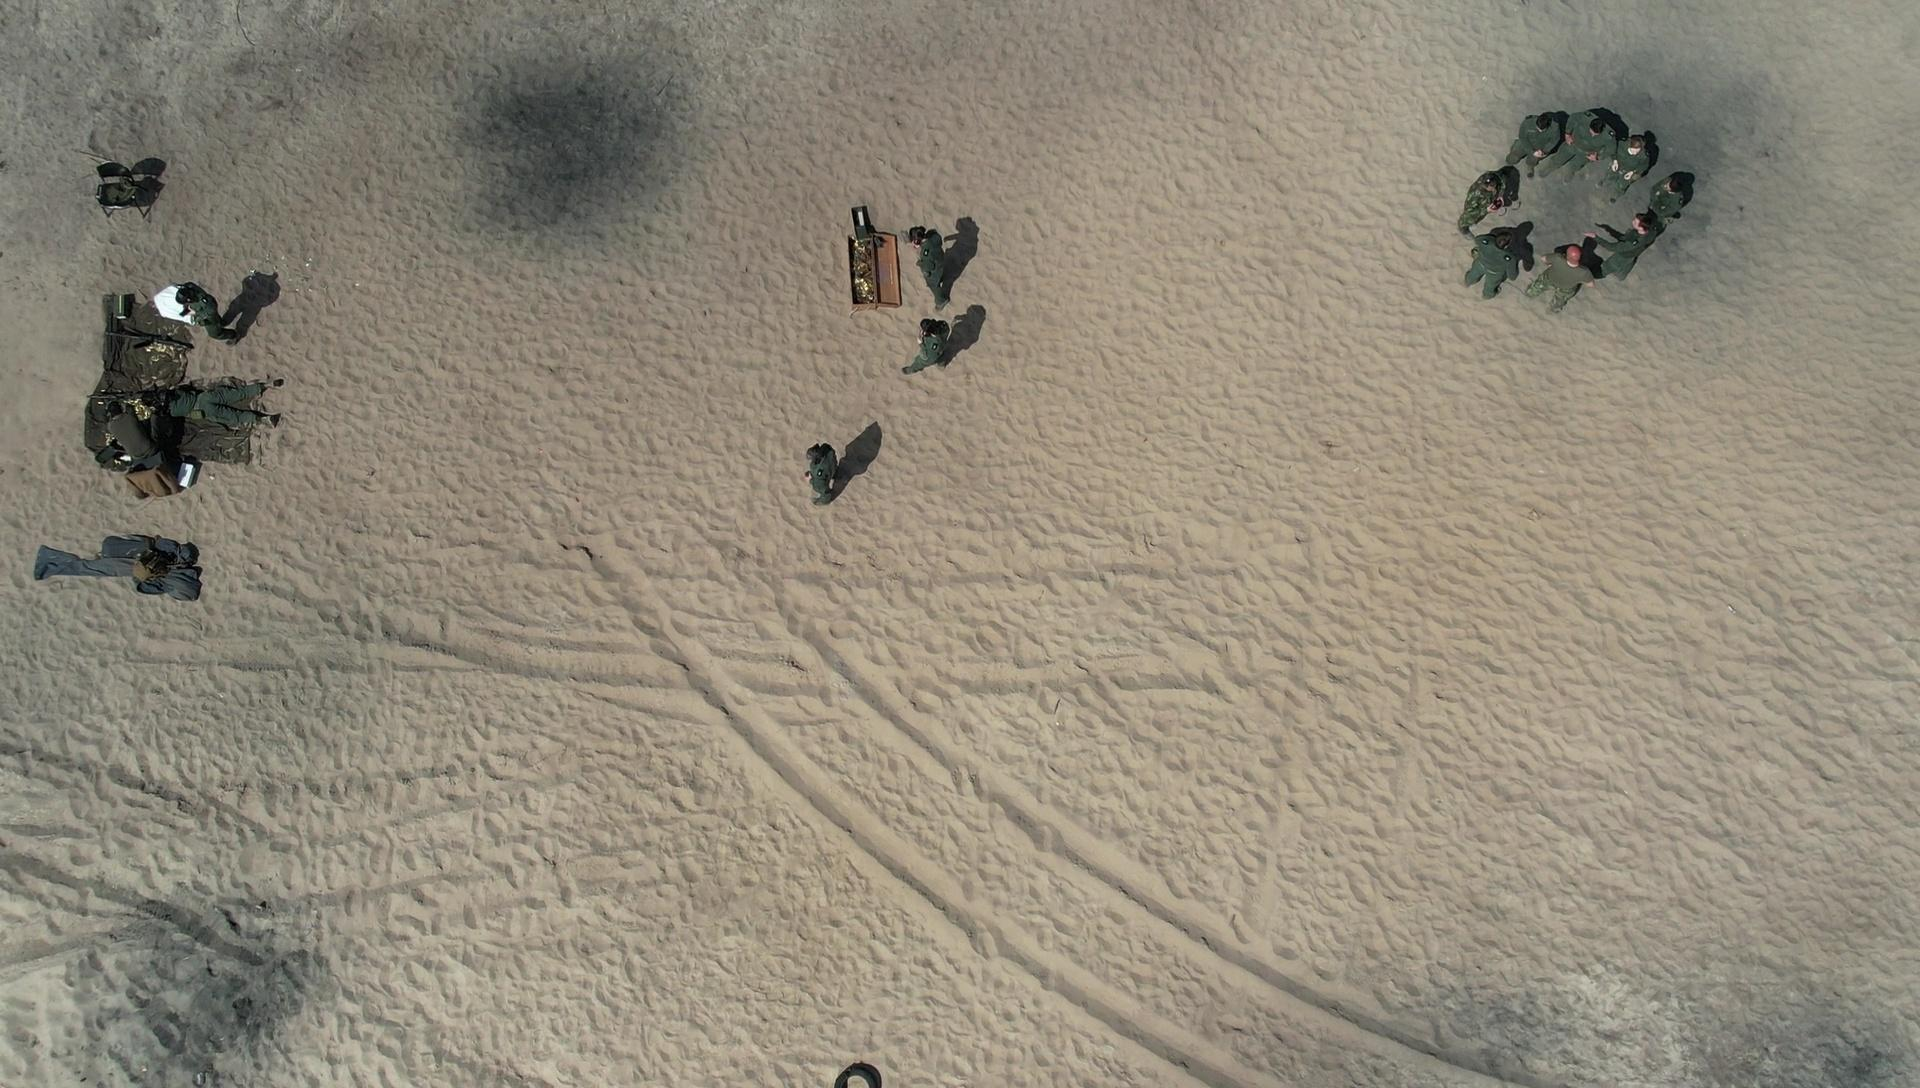Soldier: (149, 375, 306, 446), (899, 208, 973, 313), (1596, 195, 1665, 301), (94, 397, 179, 476), (164, 280, 260, 349), (1464, 211, 1534, 307), (891, 306, 973, 388), (783, 422, 853, 512), (1557, 106, 1634, 179), (1534, 231, 1598, 314), (1647, 160, 1701, 237), (1460, 167, 1519, 227), (1613, 124, 1663, 193), (1505, 107, 1563, 164)
